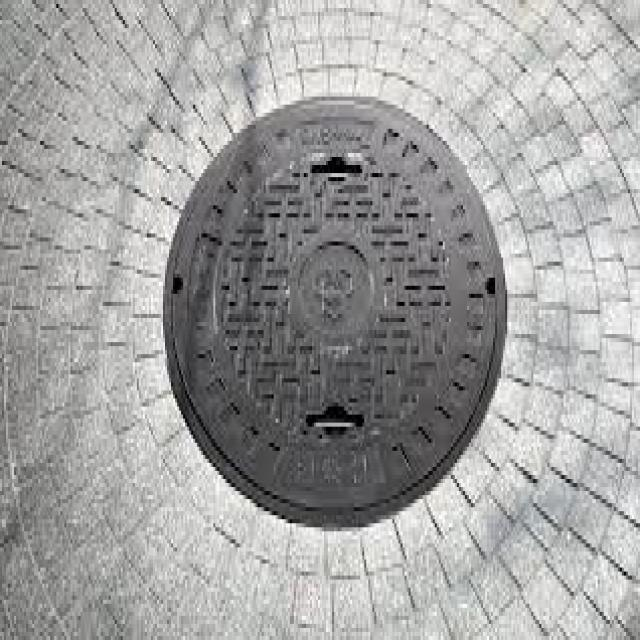Sewer Cover: (150, 48, 530, 563)
